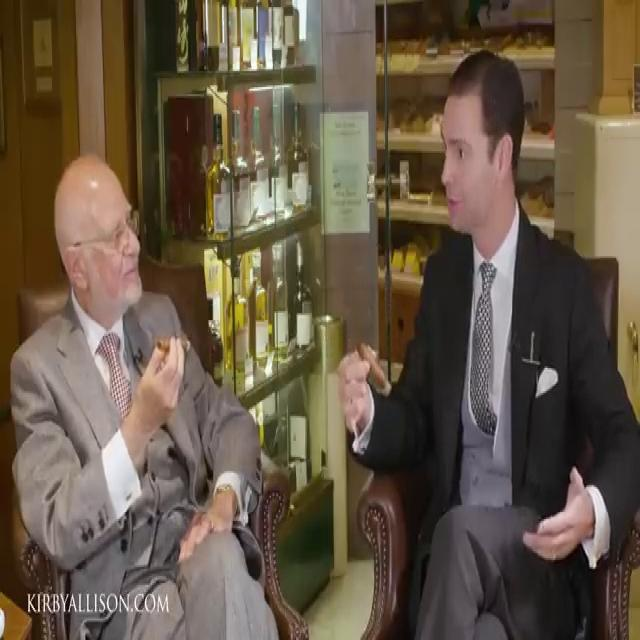Smooking: (352, 328, 396, 405), (153, 323, 197, 361)
